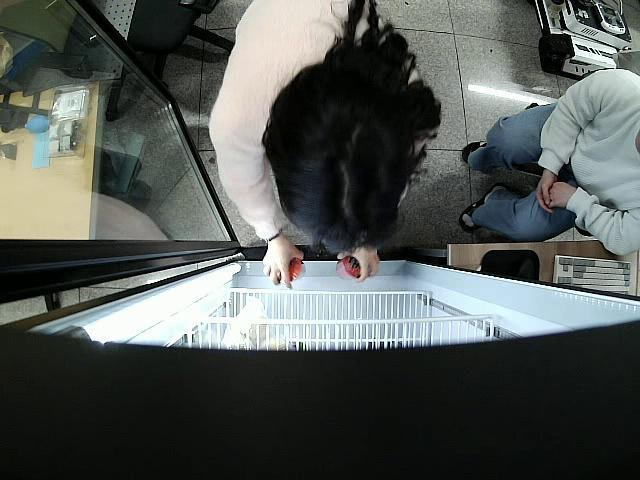02_shinRamen_S: (278, 253, 308, 288), (336, 256, 363, 284)
